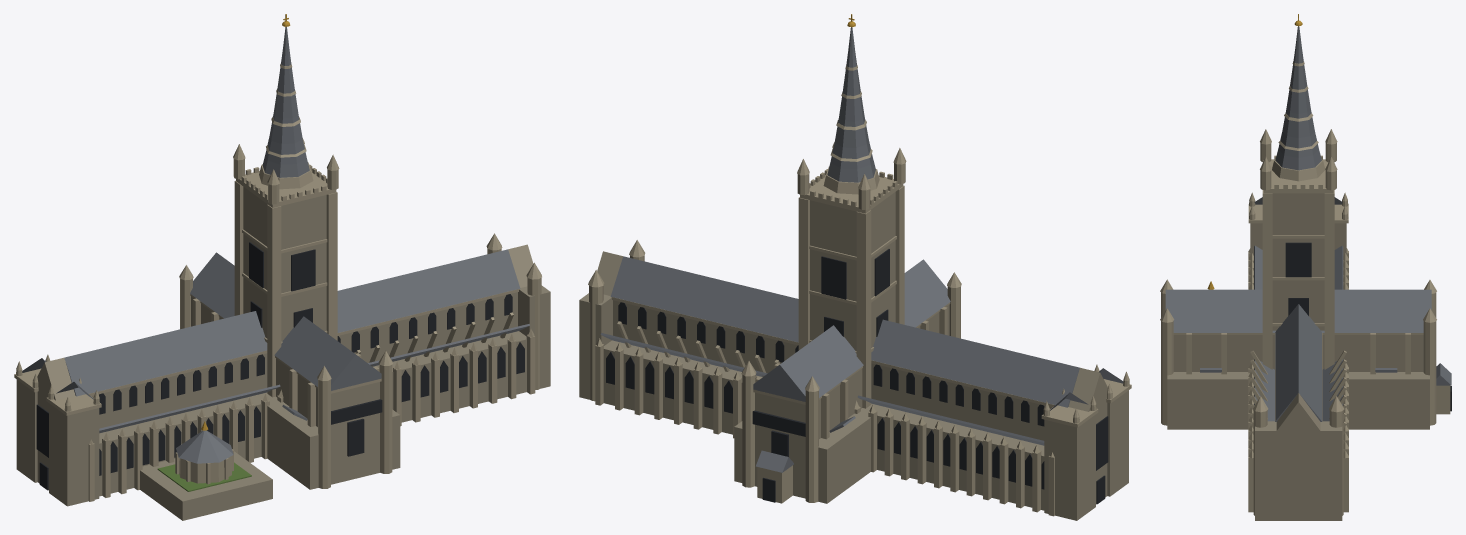
The model's file is old_st_pauls_spire.glb.
The picture shows the model from 3 angles, left to right: view 1: azimuth 30°, elevation 25°; view 2: azimuth 150°, elevation 25°; view 3: azimuth 270°, elevation 25°; orthographic projection. The views are drawn at different scales.
Visible parts, largest first — view 1: old_st_pauls_spire; view 2: old_st_pauls_spire; view 3: old_st_pauls_spire.
Part boxes in pixels (x1,y1,x2,y2): old_st_pauls_spire: [14, 14, 550, 520]; old_st_pauls_spire: [579, 14, 1131, 520]; old_st_pauls_spire: [1160, 14, 1451, 520].
Size of the model in its own units: 184 by 149 by 99.96.
